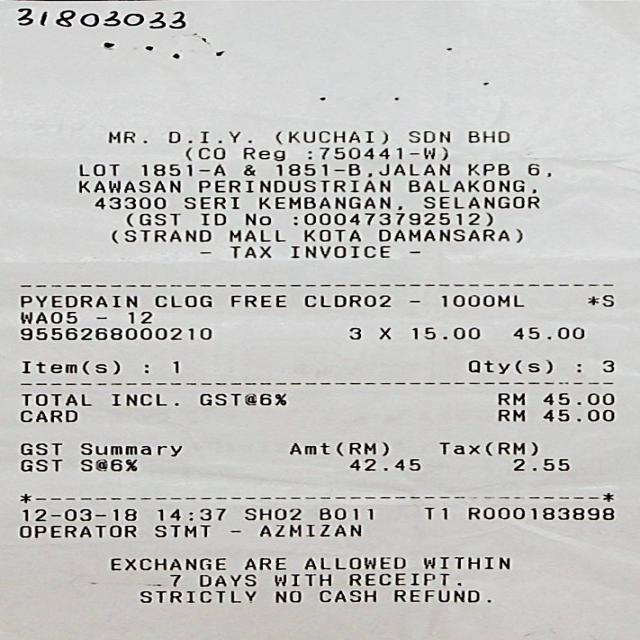text: (292, 212, 490, 224), (196, 179, 388, 191), (18, 326, 210, 338), (274, 163, 448, 176), (378, 228, 520, 242), (466, 506, 612, 519), (256, 196, 399, 209), (306, 146, 447, 159), (407, 179, 534, 192), (275, 130, 386, 143), (78, 442, 180, 456), (17, 525, 134, 537), (422, 195, 538, 207), (20, 508, 135, 520), (289, 440, 387, 454), (111, 557, 224, 569), (138, 590, 254, 601), (111, 229, 209, 242), (436, 441, 534, 454), (20, 295, 135, 306), (22, 360, 117, 373), (392, 588, 479, 602), (77, 180, 178, 192), (303, 556, 404, 568), (259, 524, 359, 536), (348, 572, 448, 584), (291, 245, 389, 257), (466, 359, 551, 372), (139, 163, 223, 176), (302, 294, 389, 306), (421, 556, 508, 568), (200, 392, 284, 404), (441, 294, 522, 306), (166, 131, 250, 142), (19, 392, 90, 404), (543, 392, 612, 404), (157, 508, 224, 520), (109, 392, 175, 404), (542, 409, 613, 420), (94, 197, 164, 208), (512, 327, 582, 338), (349, 459, 419, 470), (125, 212, 179, 226), (410, 327, 477, 338), (18, 311, 76, 323), (242, 508, 300, 520), (317, 589, 374, 601), (182, 196, 238, 208), (228, 229, 284, 241), (78, 458, 134, 470), (199, 574, 255, 586), (274, 574, 329, 586), (18, 410, 76, 421), (510, 458, 568, 469), (317, 507, 370, 519), (302, 229, 359, 240), (153, 295, 209, 306), (153, 525, 209, 536), (230, 295, 284, 306), (243, 146, 284, 160), (242, 556, 285, 568), (18, 442, 60, 454), (79, 163, 117, 176), (467, 130, 508, 142), (467, 162, 508, 174), (408, 130, 448, 142), (228, 245, 268, 257), (18, 459, 60, 470), (185, 147, 223, 159), (199, 212, 224, 225), (243, 212, 268, 225), (107, 131, 135, 142), (586, 294, 611, 306), (498, 392, 523, 404), (526, 163, 548, 176), (127, 310, 150, 322), (498, 409, 523, 420), (274, 590, 298, 601), (167, 573, 180, 586), (438, 506, 448, 520), (242, 164, 254, 175), (600, 360, 612, 371), (348, 327, 359, 338), (423, 507, 433, 519), (379, 327, 389, 338), (171, 361, 179, 374)
